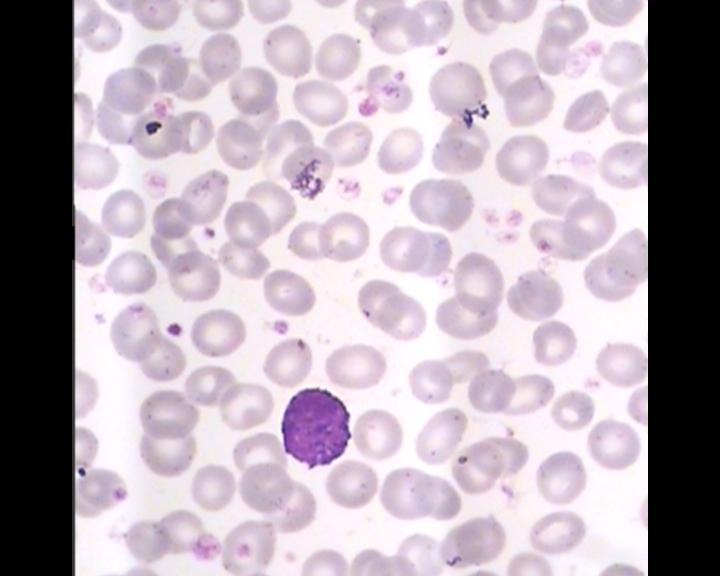baso: (276, 383, 353, 469)
